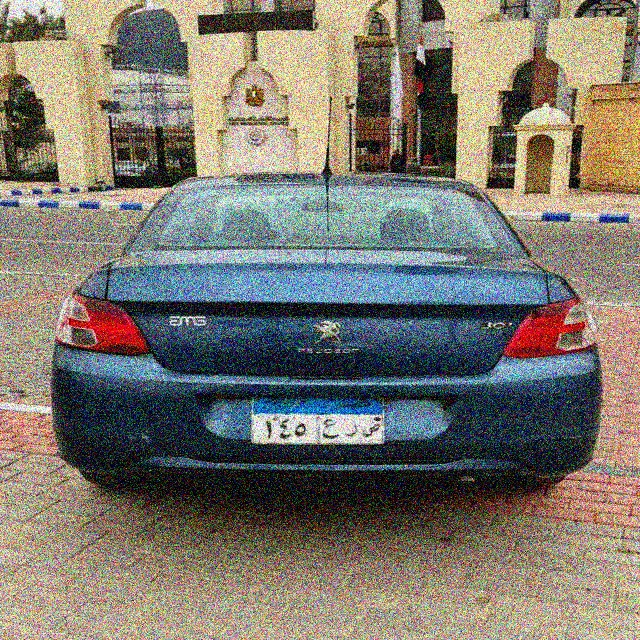License Plate: (250, 395, 387, 447)
